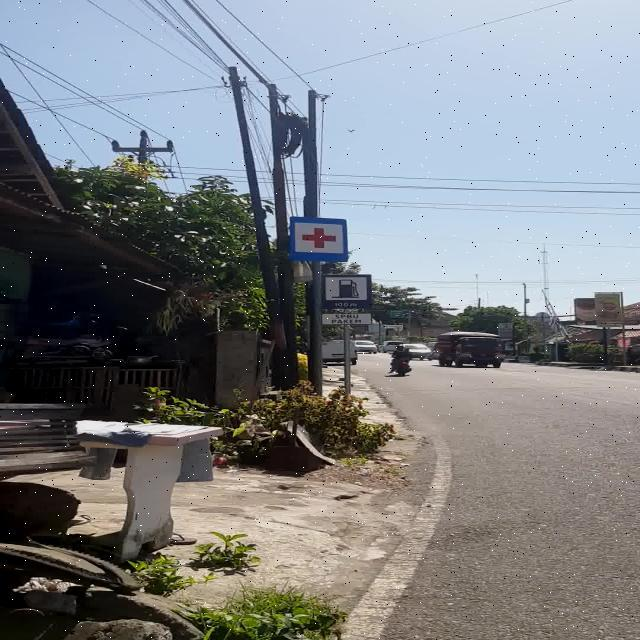Balai Pertolongan Pertama: (290, 216, 348, 262)
Pom Bensin: (321, 274, 372, 308)
